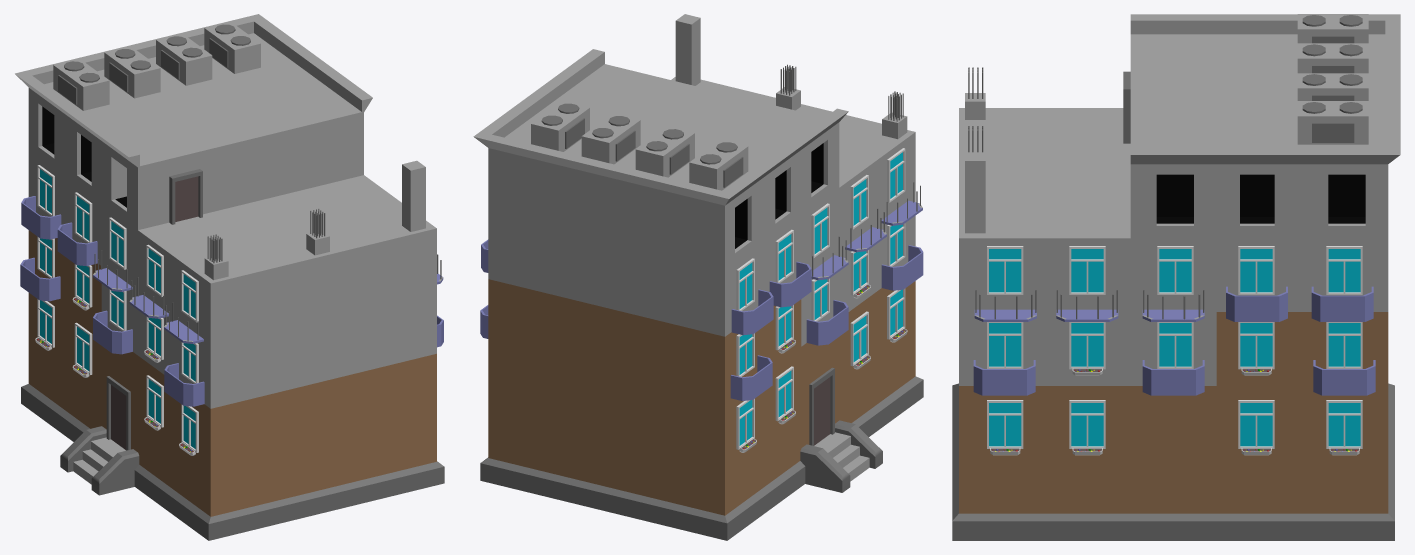
File: Building_V2.fbx
The picture shows the model from 3 angles, left to right: view 1: azimuth 30°, elevation 25°; view 2: azimuth 150°, elevation 25°; view 3: azimuth 270°, elevation 25°; orthographic projection. The views are drawn at different scales.
Parts seen in each view (by area): view 1: Building_V2; view 2: Building_V2; view 3: Building_V2.
Boxes of the visible parts, x1,y1,x2,y2 form: Building_V2: (15,14,444,540); Building_V2: (473,14,923,540); Building_V2: (952,14,1400,540).
Size of the model in its own units: 18.67 by 21.64 by 21.7.
